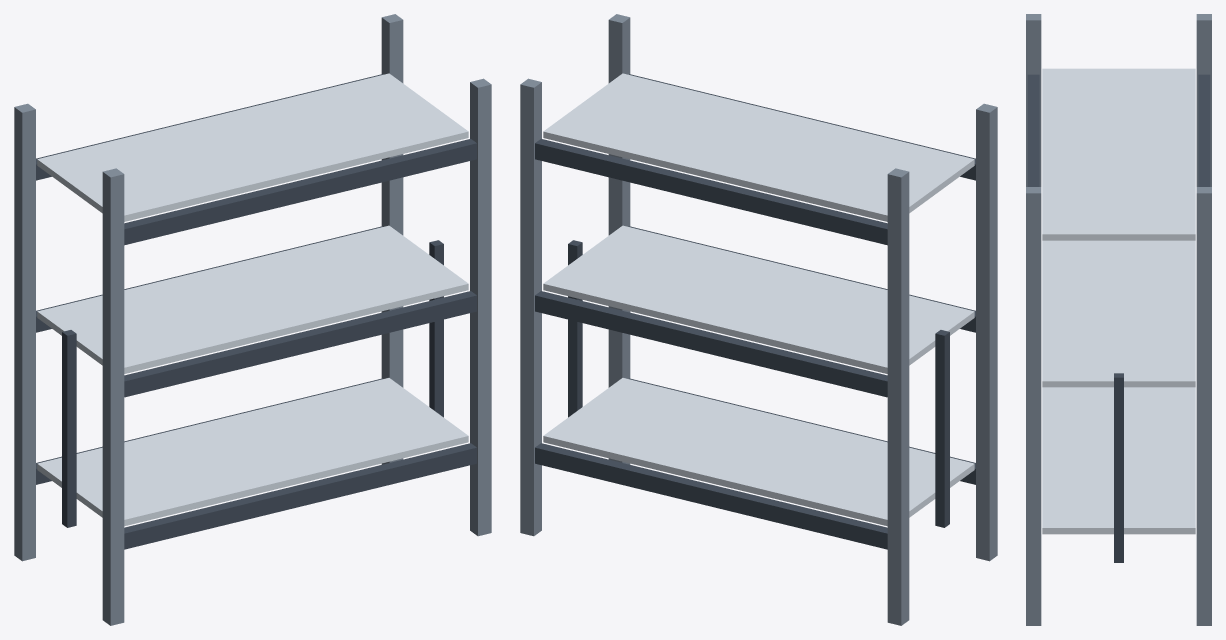
The model's file is shelf.glb.
3 renders of one model, left to right at view 1: azimuth 30°, elevation 25°; view 2: azimuth 150°, elevation 25°; view 3: azimuth 270°, elevation 25°, orthographic. The views are drawn at different scales.
Parts seen in each view (by area): view 1: Deck_L3, Deck_L2, Deck_L1, Upright_3, Upright_1, Upright_4, Beam_Back_L1, Beam_Back_L2, Beam_Back_L3, Upright_2, Brace_Left, Brace_Right (+2 smaller); view 2: Deck_L3, Deck_L2, Deck_L1, Upright_1, Upright_3, Upright_2, Beam_Front_L1, Beam_Front_L2, Beam_Front_L3, Upright_4, Brace_Left, Brace_Right (+2 smaller); view 3: Deck_L3, Deck_L2, Deck_L1, Upright_2, Upright_4, Brace_Right, Upright_1, Upright_3, Beam_Front_L3, Beam_Back_L3.
Part boxes in pixels (left/top/right/bottom): Deck_L3: left=37, top=73, right=468, bottom=221; Deck_L2: left=37, top=225, right=468, bottom=373; Deck_L1: left=37, top=378, right=468, bottom=526; Upright_3: left=102, top=168, right=124, bottom=625; Upright_1: left=14, top=103, right=35, bottom=561; Upright_4: left=470, top=78, right=491, bottom=536; Beam_Back_L1: left=124, top=443, right=476, bottom=549; Beam_Back_L2: left=124, top=291, right=476, bottom=397; Beam_Back_L3: left=124, top=139, right=476, bottom=245; Upright_2: left=381, top=14, right=403, bottom=464; Brace_Left: left=62, top=330, right=76, bottom=527; Brace_Right: left=429, top=240, right=443, bottom=417; Deck_L3: left=543, top=73, right=974, bottom=221; Deck_L2: left=543, top=225, right=974, bottom=373; Deck_L1: left=543, top=378, right=974, bottom=526; Upright_1: left=887, top=168, right=909, bottom=625; Upright_3: left=976, top=103, right=997, bottom=561; Upright_2: left=520, top=78, right=541, bottom=536; Beam_Front_L1: left=535, top=443, right=887, bottom=549; Beam_Front_L2: left=535, top=291, right=887, bottom=397; Beam_Front_L3: left=535, top=139, right=887, bottom=245; Upright_4: left=608, top=14, right=630, bottom=464; Brace_Left: left=935, top=330, right=949, bottom=527; Brace_Right: left=568, top=240, right=582, bottom=417; Deck_L3: left=1042, top=68, right=1195, bottom=240; Deck_L2: left=1042, top=240, right=1195, bottom=387; Deck_L1: left=1042, top=387, right=1195, bottom=534; Upright_2: left=1196, top=187, right=1211, bottom=625; Upright_4: left=1026, top=187, right=1041, bottom=625; Brace_Right: left=1114, top=373, right=1123, bottom=562; Upright_1: left=1196, top=14, right=1211, bottom=186; Upright_3: left=1026, top=14, right=1041, bottom=186; Beam_Front_L3: left=1198, top=74, right=1210, bottom=186; Beam_Back_L3: left=1027, top=74, right=1039, bottom=186.
Bounding box in the file's own units: 2.49 × 2.8 × 1.09.
